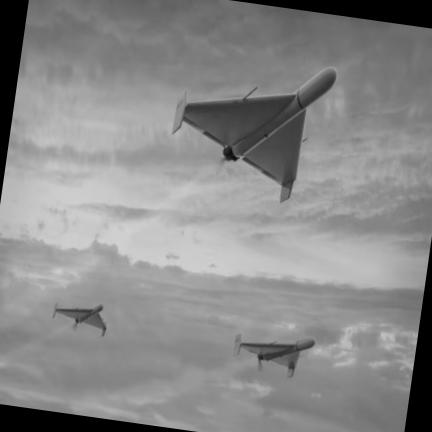Shahed: (172, 67, 336, 202), (232, 334, 314, 377), (52, 303, 105, 336)
